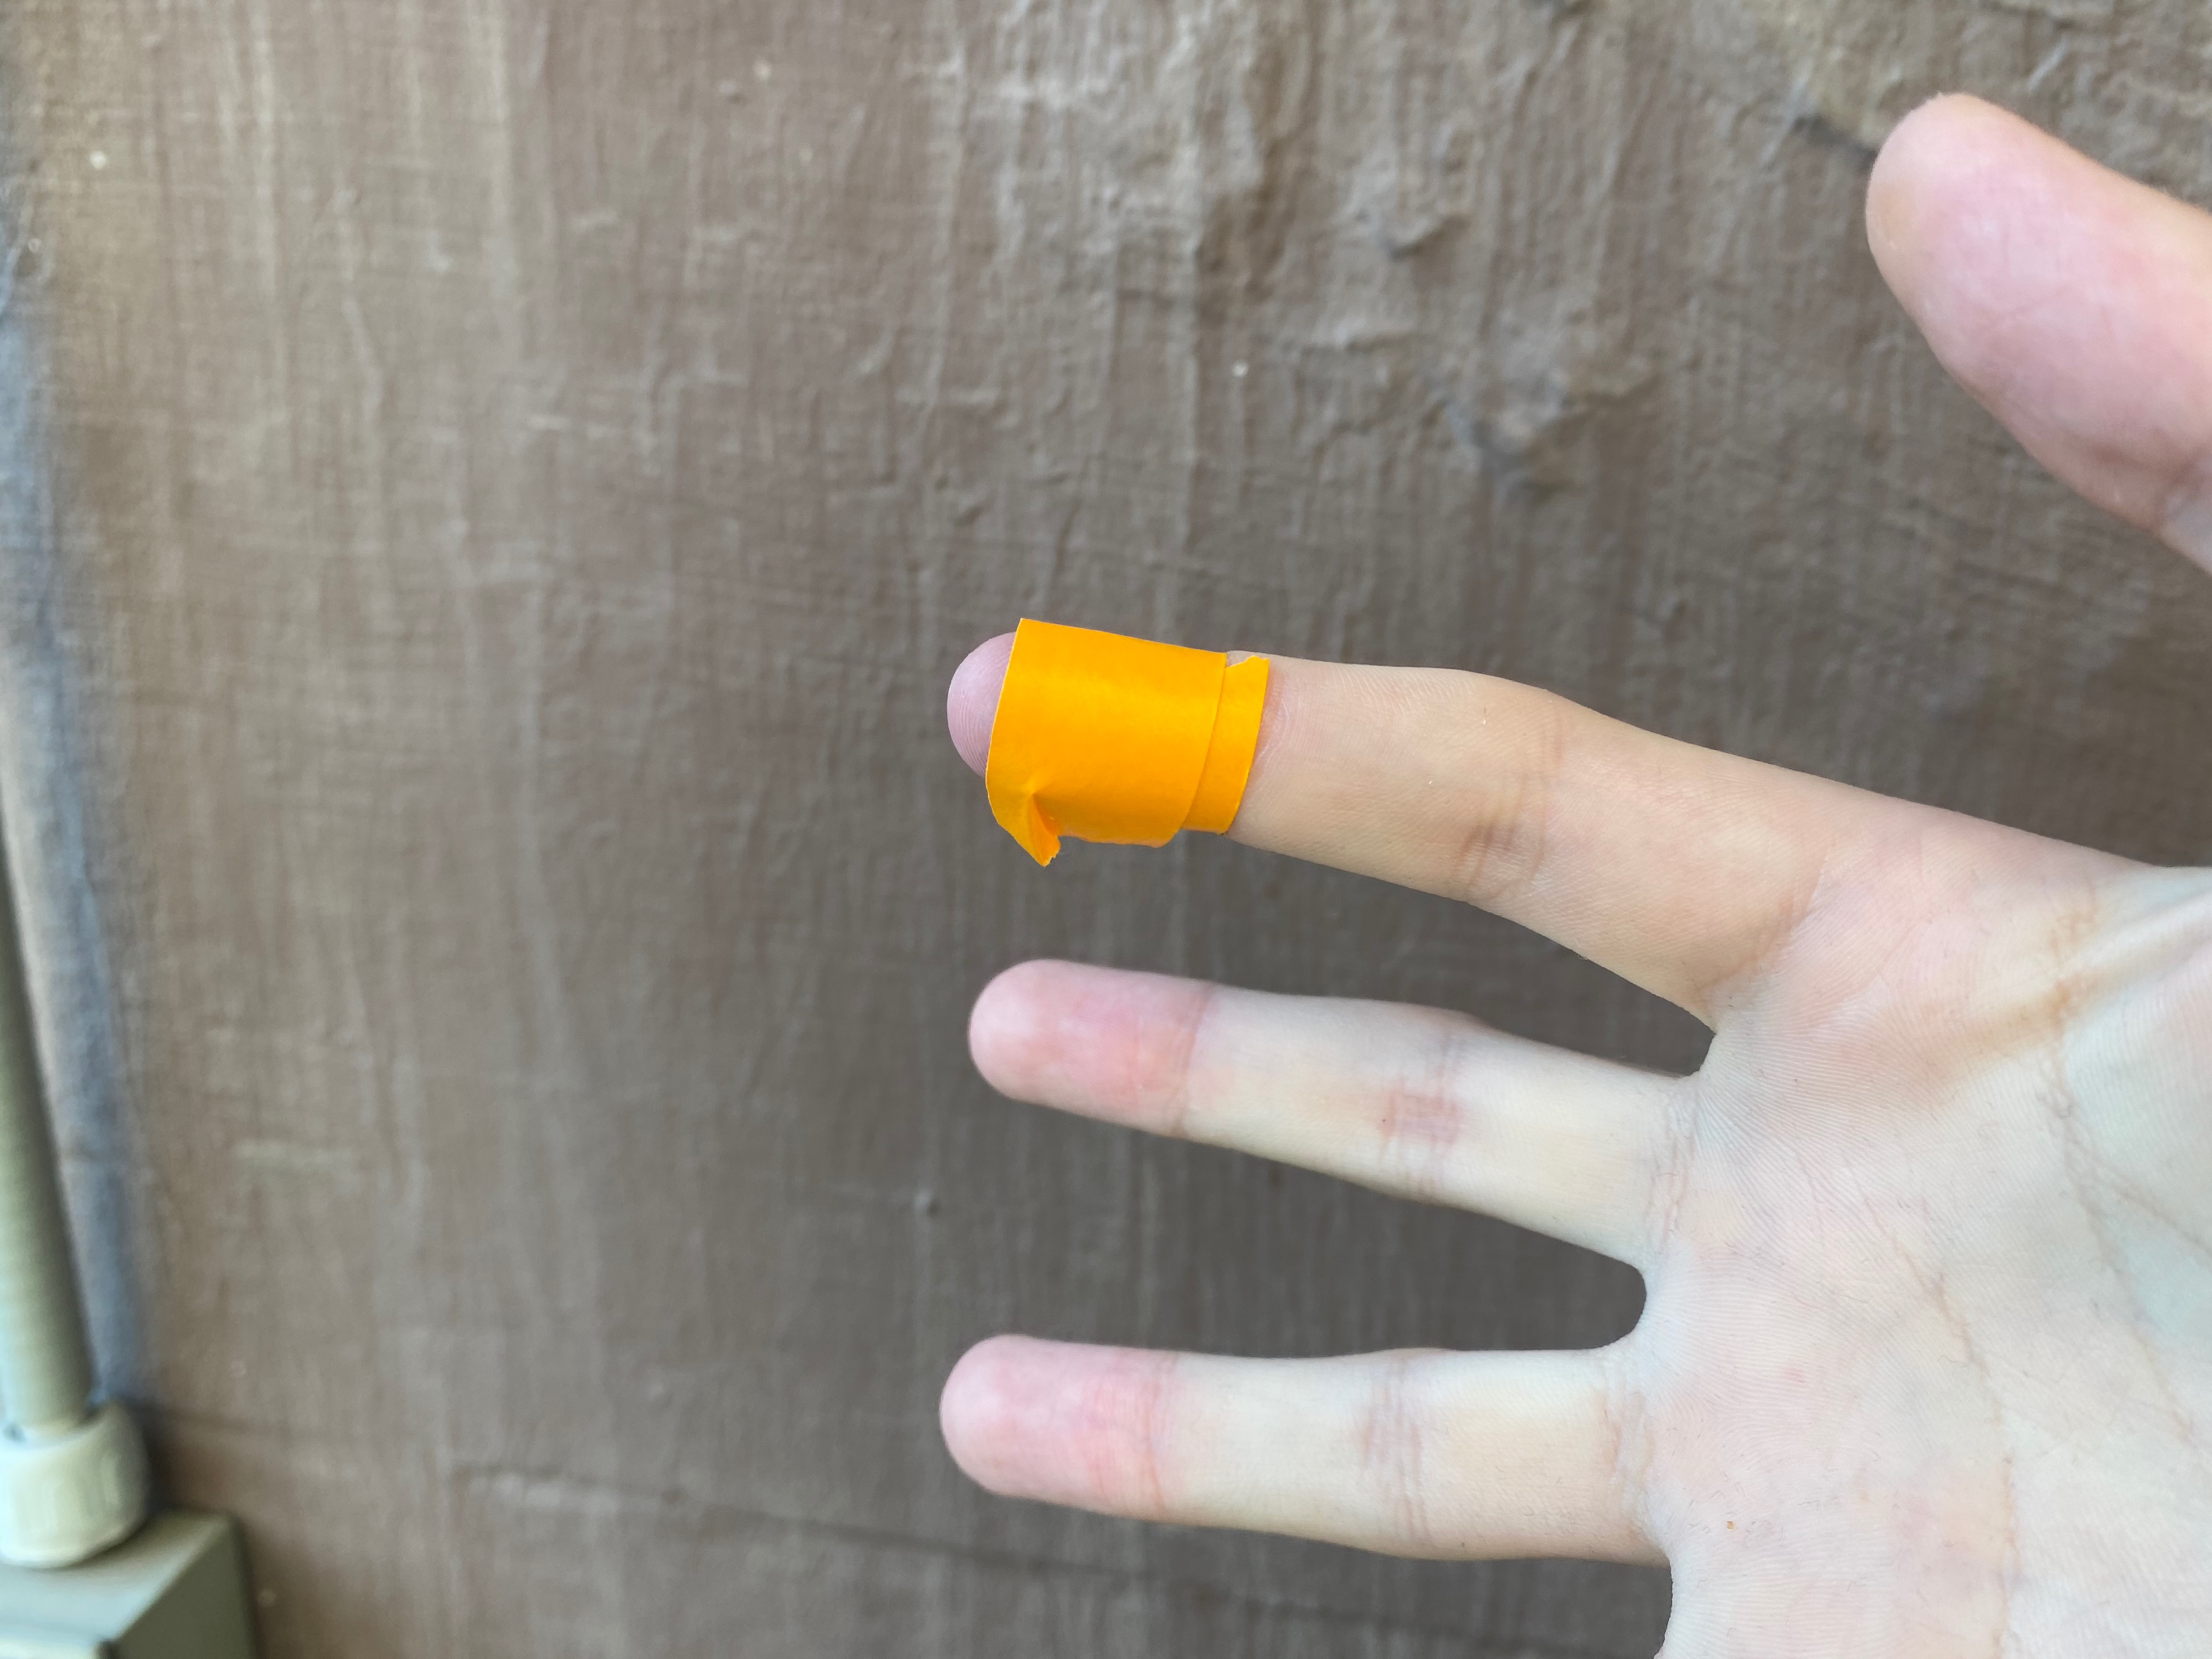fingertip: (927, 608, 1310, 871)
